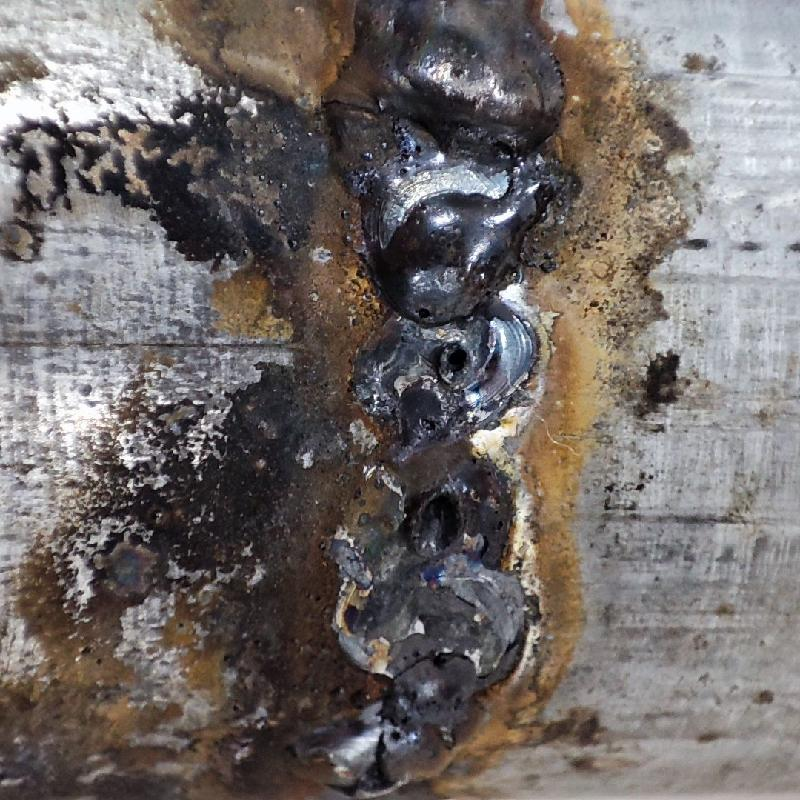Not_fully_soldered: (333, 318, 553, 670)
Surface_pores: (408, 297, 442, 326)
Weld: (311, 3, 570, 327), (337, 673, 501, 793)
